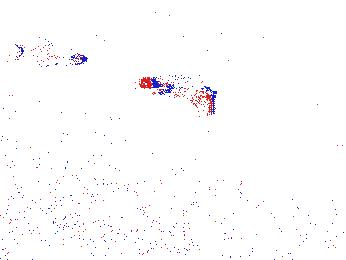redtail glassfish: (138, 73, 224, 117), (10, 34, 88, 70)
